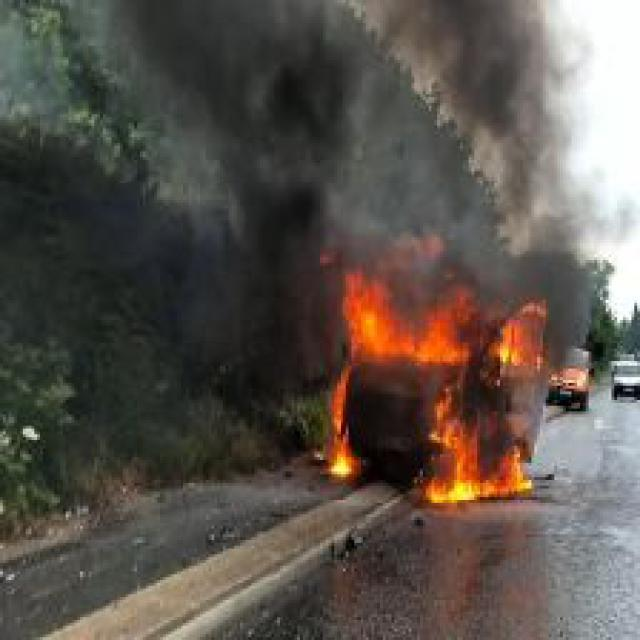fire: (326, 246, 554, 511)
